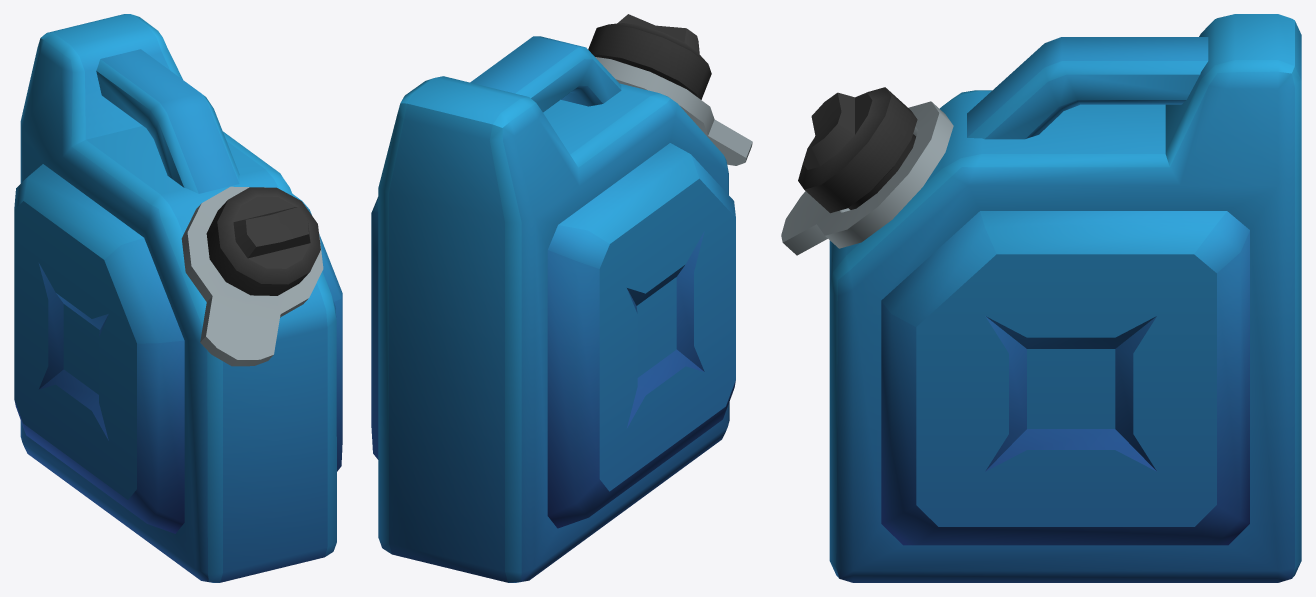
The model's file is Fuel_C_Jerrycan.glb.
3 renders of one model, left to right at view 1: azimuth 30°, elevation 25°; view 2: azimuth 150°, elevation 25°; view 3: azimuth 270°, elevation 25°, orthographic. The views are drawn at different scales.
Parts seen in each view (by area): view 1: Fuel_C_Jerrycan; view 2: Fuel_C_Jerrycan; view 3: Fuel_C_Jerrycan.
Boxes of the visible parts, x1,y1,x2,y2 form: Fuel_C_Jerrycan: [14, 14, 342, 582]; Fuel_C_Jerrycan: [371, 14, 752, 582]; Fuel_C_Jerrycan: [781, 14, 1301, 582].
Size of the model in its own units: 0.4 by 0.78 by 0.7165.
Materials: 1 (1 with a texture image).
